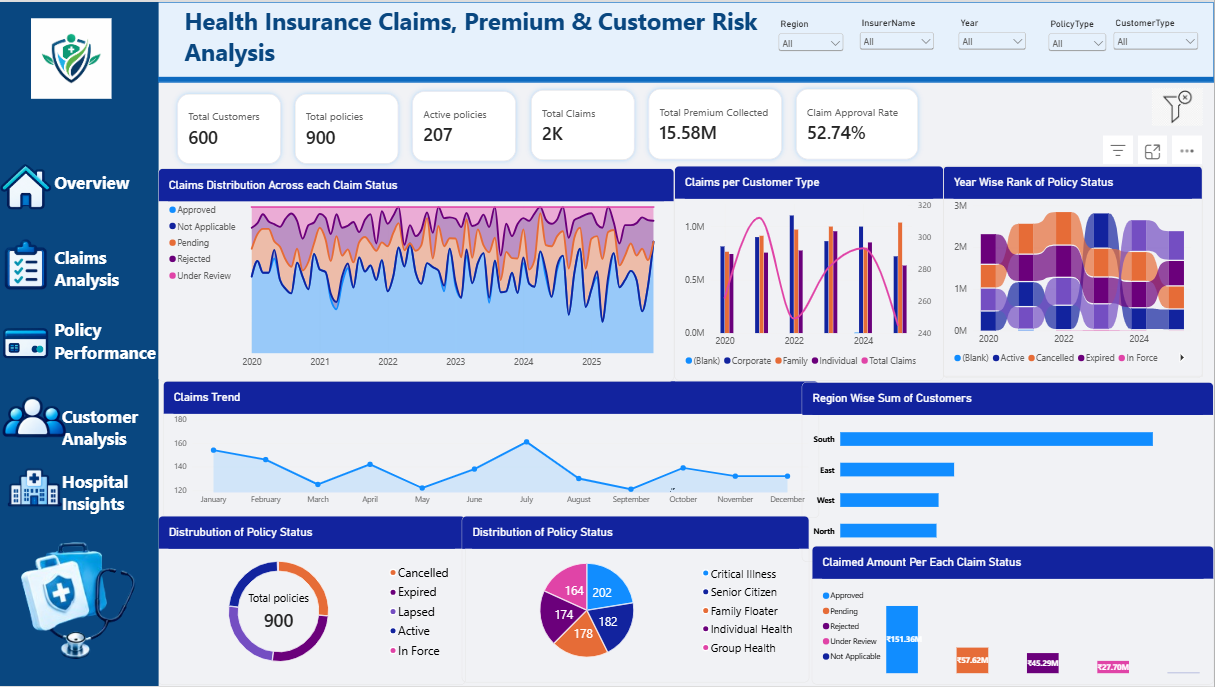

The page's visual inventory and layout, read from the dashboard file:
{"tool":"powerbi","page":{"name":"Executive Overview","canvas":[1920,1080],"ordinal":0},"visuals":[{"type":"cardVisual","fields":{"Data":["DAX Measures.Total Customers"]},"box":[272,135,185.9,132.5],"z":0},{"type":"lineChart","title":"Claims Trend","fields":{"Category":["Dim_Date.Date.Variation.Date Hierarchy.Year","Dim_Date.Date.Variation.Date Hierarchy.Quarter","Dim_Date.Date.Variation.Date Hierarchy.Month","Dim_Date.Date.Variation.Date Hierarchy.Day"],"Y":["DAX Measures.Total Claims"]},"box":[261.4,598.2,1036.2,217.2],"z":1000},{"type":"donutChart","title":"Distrubution of Policy Status","fields":{"Category":["Dim_Policy.PolicyStatus"],"Y":["DAX Measures.Total policies"]},"box":[252.1,811.7,485.9,266.9],"z":3000},{"type":"barChart","title":"Region Wise Sum of Customers","fields":{"Category":["Dim_Customer.Region"],"Y":["DAX Measures.Total Customers"]},"box":[1269.9,600,650,284],"z":4000},{"type":"columnChart","title":"Amount Per Each Claim Status","fields":{"Category":["Fact_InsuranceTransactions.ClaimStatus"],"Series":["Fact_InsuranceTransactions.ClaimStatus"],"Y":["Sum(Fact_InsuranceTransactions.ClaimAmount_INR)"]},"box":[1284.7,859.5,635,219],"z":5000},{"type":"pieChart","title":"Distribution of Policy Type","fields":{"Category":["Dim_Policy.PolicyType"],"Y":["DAX Measures.Total policies"]},"box":[732.5,811.7,548.5,263.2],"z":6000},{"type":"shape","box":[0,0,1920,127.7],"z":7000},{"type":"slicer","fields":{"Values":["Dim_Date.Date.Variation.Date Hierarchy.Year"]},"box":[1511.1,23.9,116,77.3],"z":8000},{"type":"slicer","fields":{"Values":["Dim_Policy.PolicyType"]},"box":[1654.6,25.8,101.2,75.5],"z":9000},{"type":"slicer","fields":{"Values":["Dim_Policy.InsurerName"]},"box":[1356.4,23.9,127,104.9],"z":10000},{"type":"slicer","fields":{"Values":["Dim_Customer.Region"]},"box":[1227.6,25.8,112.3,104.9],"z":11000},{"type":"slicer","fields":{"Values":["Dim_Customer.CustomerType"]},"box":[1755.8,23.9,143.6,104.9],"z":12000},{"type":"textbox","box":[0,0,254,1080.4],"z":13000},{"type":"textbox","box":[294.5,3.7,955.2,125.2],"z":14000},{"type":"image","box":[22.1,25.8,187.7,127],"z":16000},{"type":"image","box":[0,230.1,88.3,121.5],"z":17000},{"type":"image","box":[0,368.1,88.3,90.2],"z":18000},{"type":"image","box":[0,498.8,101.2,79.1],"z":19000},{"type":"image","box":[0,600,116,110.4],"z":20000},{"type":"image","box":[0,719.6,116,92],"z":21000},{"type":"textbox","box":[88.3,266.9,121.5,64.4],"z":22000},{"type":"textbox","box":[88.3,384.7,121.5,93.9],"z":23000},{"type":"textbox","box":[88.3,498.8,184.1,117.8],"z":24000},{"type":"textbox","box":[101.2,635,152.8,84.7],"z":25000},{"type":"textbox","box":[101.2,738,136.2,99.4],"z":26000},{"type":"image","box":[1801,135.7,119.6,58.9],"z":27000},{"type":"cardVisual","fields":{"Data":["DAX Measures.Total policies"]},"box":[458.3,134.4,185.9,132.5],"z":28000},{"type":"cardVisual","fields":{"Data":["DAX Measures.Active policies"]},"box":[644.2,130.7,185.9,132.5],"z":29000},{"type":"cardVisual","fields":{"Data":["DAX Measures.Total Claims"]},"box":[829.9,129.1,185.9,132.5],"z":30000},{"type":"cardVisual","fields":{"Data":["DAX Measures.Total Premium Collected"]},"box":[1016.6,127.1,232.3,133],"z":31000},{"type":"cardVisual","fields":{"Data":["DAX Measures.Claim Approval Rate"]},"box":[1248.9,127.1,214.4,133],"z":32000},{"type":"image","box":[0,786.8,260.9,292.2],"z":33000},{"type":"shape","box":[253.1,116.3,1666.9,11.4],"z":34000},{"type":"ribbonChart","title":"Premium collected ","fields":{"Category":["Dim_Date.Date.Variation.Date Hierarchy.Year"],"Series":["Dim_Policy.PolicyStatus"],"Y":["DAX Measures.Total Premium Collected"]},"box":[1492.6,257.7,409.6,335.1],"z":34002},{"type":"lineClusteredColumnComboChart","title":"Premium Collection and Claims by Customer Type ","fields":{"Category":["Dim_Date.Date.Variation.Date Hierarchy.Year"],"Series":["Dim_Customer.CustomerType"],"Y":["DAX Measures.Total Premium Collected"],"Y2":["DAX Measures.Total Claims"]},"box":[1067.5,257.7,425.2,339],"z":34003},{"type":"hundredPercentStackedAreaChart","title":"Claims Distribution Across each Claim Status","fields":{"Category":["Dim_Date.Date.Variation.Date Hierarchy.Year","Dim_Date.Date.Variation.Date Hierarchy.Month"],"Series":["Fact_InsuranceTransactions.ClaimStatus"],"Y":["DAX Measures.Total Claims"]},"box":[252.1,263.2,815.3,336.8],"z":34004}]}

Visuals, with their boxes on the page's 1920x1080 design canvas (x1, y1, x2, y2). These are canvas units, not pixel positions in the 1218x687 screenshot, which may show the page scaled, cropped or inside an application window:
cardVisual - DAX Measures.Total Customers: crop(272, 135, 458, 268)
"Claims Trend" lineChart: crop(261, 598, 1298, 815)
"Distrubution of Policy Status" donutChart: crop(252, 812, 738, 1079)
"Region Wise Sum of Customers" barChart: crop(1270, 600, 1920, 884)
"Amount Per Each Claim Status" columnChart: crop(1285, 860, 1920, 1078)
"Distribution of Policy Type" pieChart: crop(732, 812, 1281, 1075)
shape: crop(0, 0, 1920, 128)
slicer - Dim_Date.Date.Variation.Date Hierarchy.Year: crop(1511, 24, 1627, 101)
slicer - Dim_Policy.PolicyType: crop(1655, 26, 1756, 101)
slicer - Dim_Policy.InsurerName: crop(1356, 24, 1483, 129)
slicer - Dim_Customer.Region: crop(1228, 26, 1340, 131)
slicer - Dim_Customer.CustomerType: crop(1756, 24, 1899, 129)
textbox: crop(0, 0, 254, 1080)
textbox: crop(294, 4, 1250, 129)
image: crop(22, 26, 210, 153)
image: crop(0, 230, 88, 352)
image: crop(0, 368, 88, 458)
image: crop(0, 499, 101, 578)
image: crop(0, 600, 116, 710)
image: crop(0, 720, 116, 812)
textbox: crop(88, 267, 210, 331)
textbox: crop(88, 385, 210, 479)
textbox: crop(88, 499, 272, 617)
textbox: crop(101, 635, 254, 720)
textbox: crop(101, 738, 237, 837)
image: crop(1801, 136, 1921, 195)
cardVisual - DAX Measures.Total policies: crop(458, 134, 644, 267)
cardVisual - DAX Measures.Active policies: crop(644, 131, 830, 263)
cardVisual - DAX Measures.Total Claims: crop(830, 129, 1016, 262)
cardVisual - DAX Measures.Total Premium Collected: crop(1017, 127, 1249, 260)
cardVisual - DAX Measures.Claim Approval Rate: crop(1249, 127, 1463, 260)
image: crop(0, 787, 261, 1079)
shape: crop(253, 116, 1920, 128)
"Premium collected " ribbonChart: crop(1493, 258, 1902, 593)
"Premium Collection and Claims by Customer Type " lineClusteredColumnComboChart: crop(1068, 258, 1493, 597)
"Claims Distribution Across each Claim Status" hundredPercentStackedAreaChart: crop(252, 263, 1067, 600)
